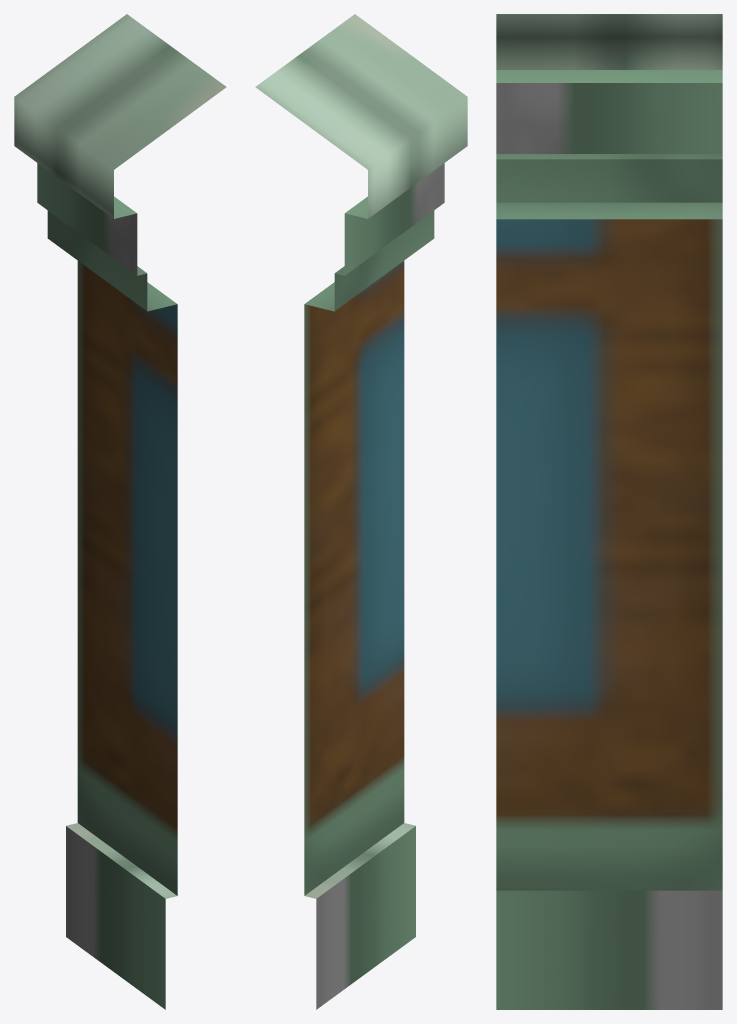
File: qVin_Buld1_F1T2Left.fbx
3 views of the same model, side by side, from view 1: azimuth 30°, elevation 25°; view 2: azimuth 150°, elevation 25°; view 3: azimuth 270°, elevation 25° (orthographic). The views are drawn at different scales.
Parts seen in each view (by area): view 1: qVin_Buld1_F1T2Left; view 2: qVin_Buld1_F1T2Left; view 3: qVin_Buld1_F1T2Left.
Part boxes in pixels (box(x1,y1,x2,y2)): qVin_Buld1_F1T2Left: box(14, 14, 226, 1009); qVin_Buld1_F1T2Left: box(255, 14, 467, 1009); qVin_Buld1_F1T2Left: box(496, 14, 722, 1009).
Size of the model in its own units: 32.61 by 251 by 49.97.
1 material, 1 textured.
